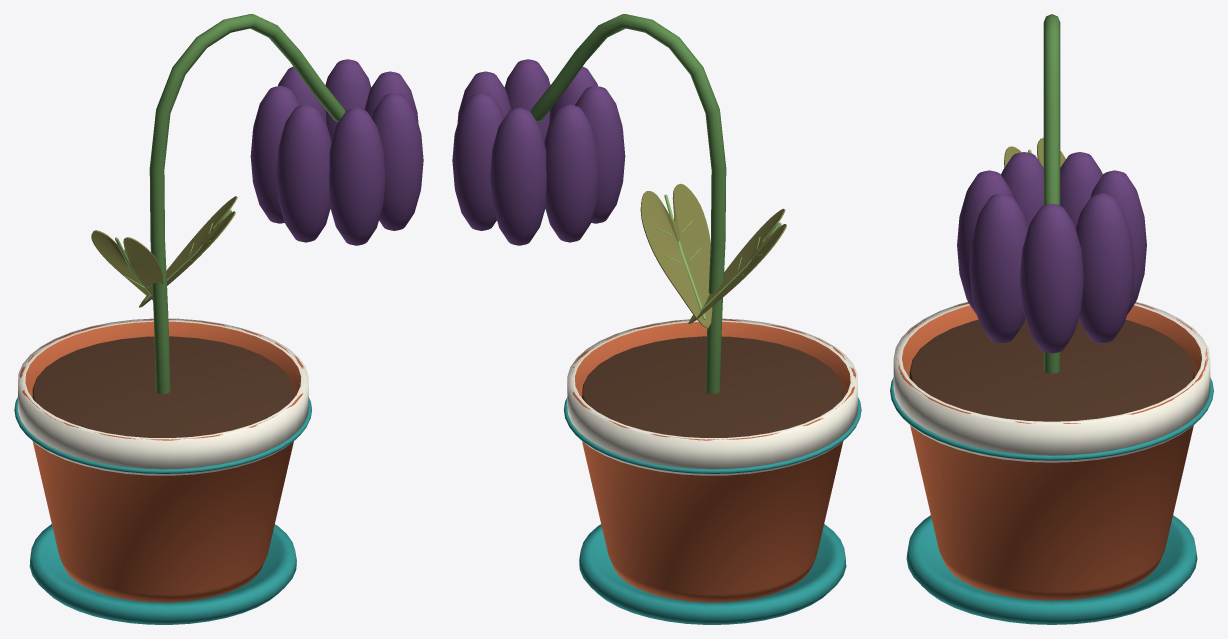
File: wilted_pot.glb
3 views of the same model, side by side, from view 1: azimuth 30°, elevation 25°; view 2: azimuth 150°, elevation 25°; view 3: azimuth 270°, elevation 25° (orthographic). The views are drawn at different scales.
Parts seen in each view (by area): view 1: Hollow_ceramic_pot, Soil_insert, Cream_pot_collar, Saucer, Drooping_stem, Wilted_petal.002, Wilted_petal.003, Wilted_petal.001, Wilted_petal.004, Broad_shaped_leaf, Teal_collar_inlay, Wilted_petal.006 (+3 smaller); view 2: Hollow_ceramic_pot, Soil_insert, Cream_pot_collar, Saucer, Drooping_stem, Wilted_petal.005, Wilted_petal.004, Broad_shaped_leaf.001, Wilted_petal.006, Wilted_petal.003, Broad_shaped_leaf, Teal_collar_inlay (+3 smaller); view 3: Hollow_ceramic_pot, Soil_insert, Cream_pot_collar, Saucer, Wilted_petal, Wilted_petal.001, Wilted_petal.006, Drooping_stem, Wilted_petal.002, Wilted_petal.005, Teal_collar_inlay, Wilted_petal.003 (+1 smaller).
Boxes of the visible parts, left/top/right/bottom form: Hollow_ceramic_pot: left=20, top=319, right=303, bottom=602; Soil_insert: left=32, top=336, right=293, bottom=437; Cream_pot_collar: left=18, top=318, right=308, bottom=475; Saucer: left=29, top=524, right=296, bottom=624; Drooping_stem: left=149, top=14, right=345, bottom=393; Wilted_petal.002: left=329, top=108, right=385, bottom=245; Wilted_petal.003: left=276, top=104, right=331, bottom=242; Wilted_petal.001: left=372, top=93, right=423, bottom=230; Wilted_petal.004: left=250, top=86, right=300, bottom=223; Broad_shaped_leaf: left=91, top=230, right=163, bottom=300; Teal_collar_inlay: left=14, top=397, right=311, bottom=473; Wilted_petal.006: left=325, top=59, right=371, bottom=141; Hollow_ceramic_pot: left=572, top=319, right=855, bottom=602; Soil_insert: left=582, top=336, right=843, bottom=437; Cream_pot_collar: left=567, top=318, right=857, bottom=475; Saucer: left=579, top=524, right=846, bottom=624; Drooping_stem: left=530, top=14, right=726, bottom=393; Wilted_petal.005: left=490, top=108, right=546, bottom=245; Wilted_petal.004: left=544, top=104, right=599, bottom=242; Broad_shaped_leaf.001: left=640, top=183, right=712, bottom=328; Wilted_petal.006: left=452, top=93, right=503, bottom=230; Wilted_petal.003: left=575, top=86, right=625, bottom=223; Broad_shaped_leaf: left=688, top=208, right=786, bottom=323; Teal_collar_inlay: left=564, top=397, right=861, bottom=473; Hollow_ceramic_pot: left=896, top=302, right=1208, bottom=600; Soil_insert: left=909, top=319, right=1194, bottom=421; Cream_pot_collar: left=893, top=302, right=1210, bottom=462; Saucer: left=906, top=515, right=1197, bottom=624; Wilted_petal: left=1020, top=203, right=1083, bottom=353; Wilted_petal.001: left=969, top=193, right=1028, bottom=343; Wilted_petal.006: left=1075, top=193, right=1134, bottom=343; Drooping_stem: left=1043, top=14, right=1060, bottom=373; Wilted_petal.002: left=957, top=170, right=1013, bottom=314; Wilted_petal.005: left=1090, top=170, right=1146, bottom=314; Teal_collar_inlay: left=890, top=377, right=1213, bottom=460; Wilted_petal.003: left=1001, top=152, right=1043, bottom=228.
Size of the model in its own units: 0.521 by 0.6998 by 0.352.
